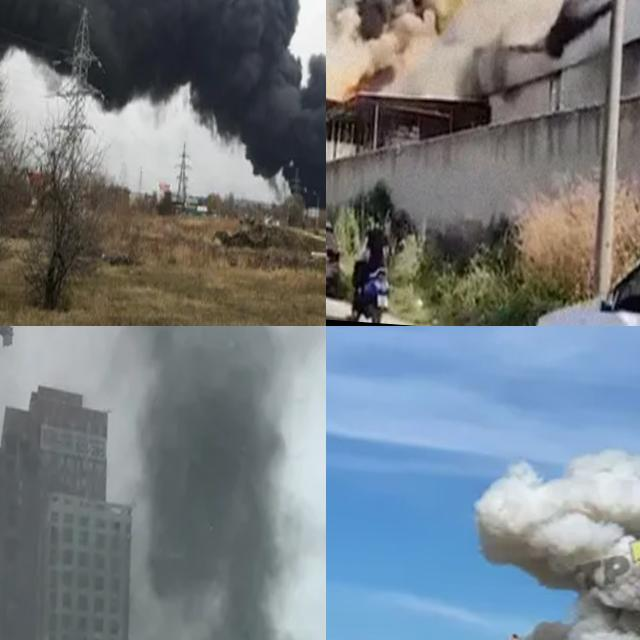smoke: (85, 326, 326, 640), (0, 0, 326, 209), (326, 0, 640, 186), (457, 437, 640, 640)
